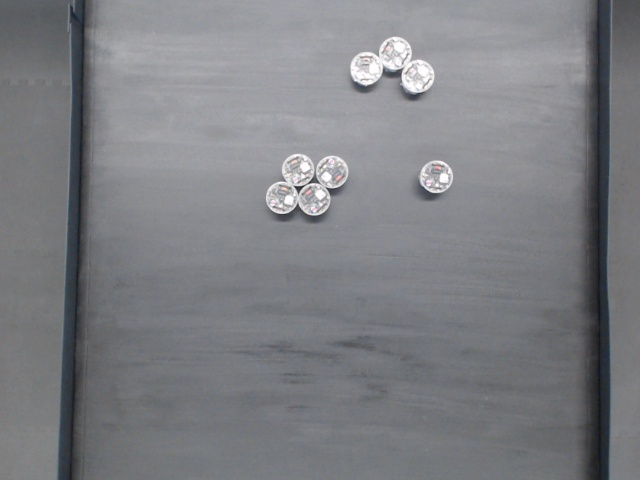epuck_2: (419, 160, 454, 194), (401, 59, 435, 93), (379, 35, 411, 70), (281, 154, 315, 186), (315, 156, 349, 188), (350, 52, 382, 86), (298, 184, 330, 216), (266, 182, 297, 214)
